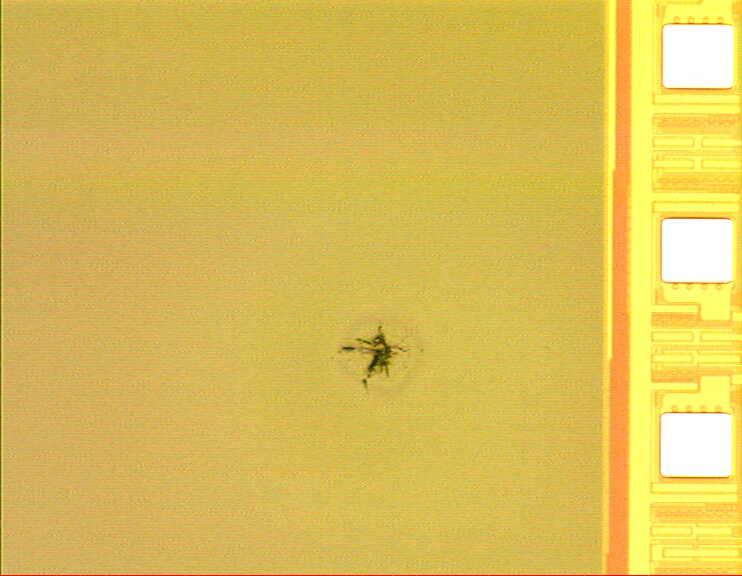PIQ PARTICLE: (338, 326, 411, 398)
